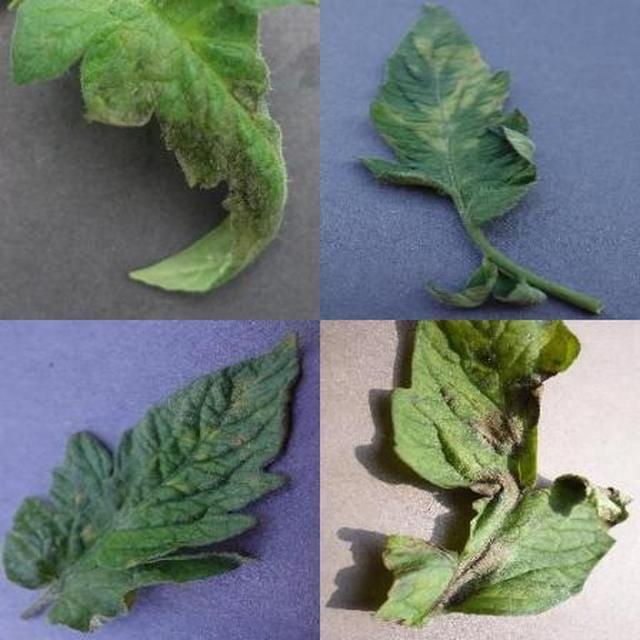Late Blight Leaf: (213, 164, 640, 640)
